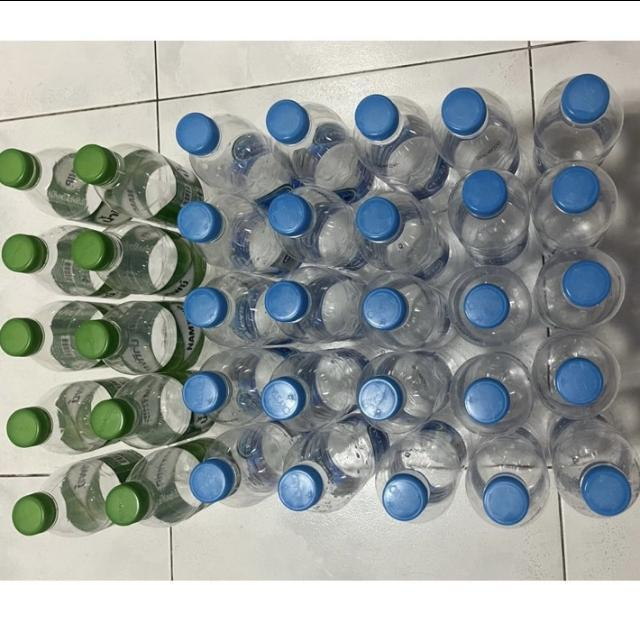PET Bottle: (0, 56, 640, 556)
